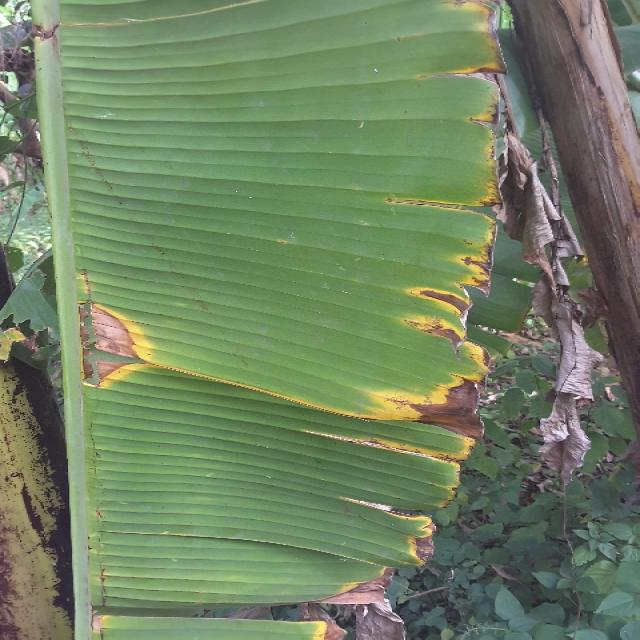Cordana: (327, 0, 562, 621), (101, 321, 472, 495), (66, 259, 156, 424), (272, 589, 376, 640), (71, 592, 140, 640)
